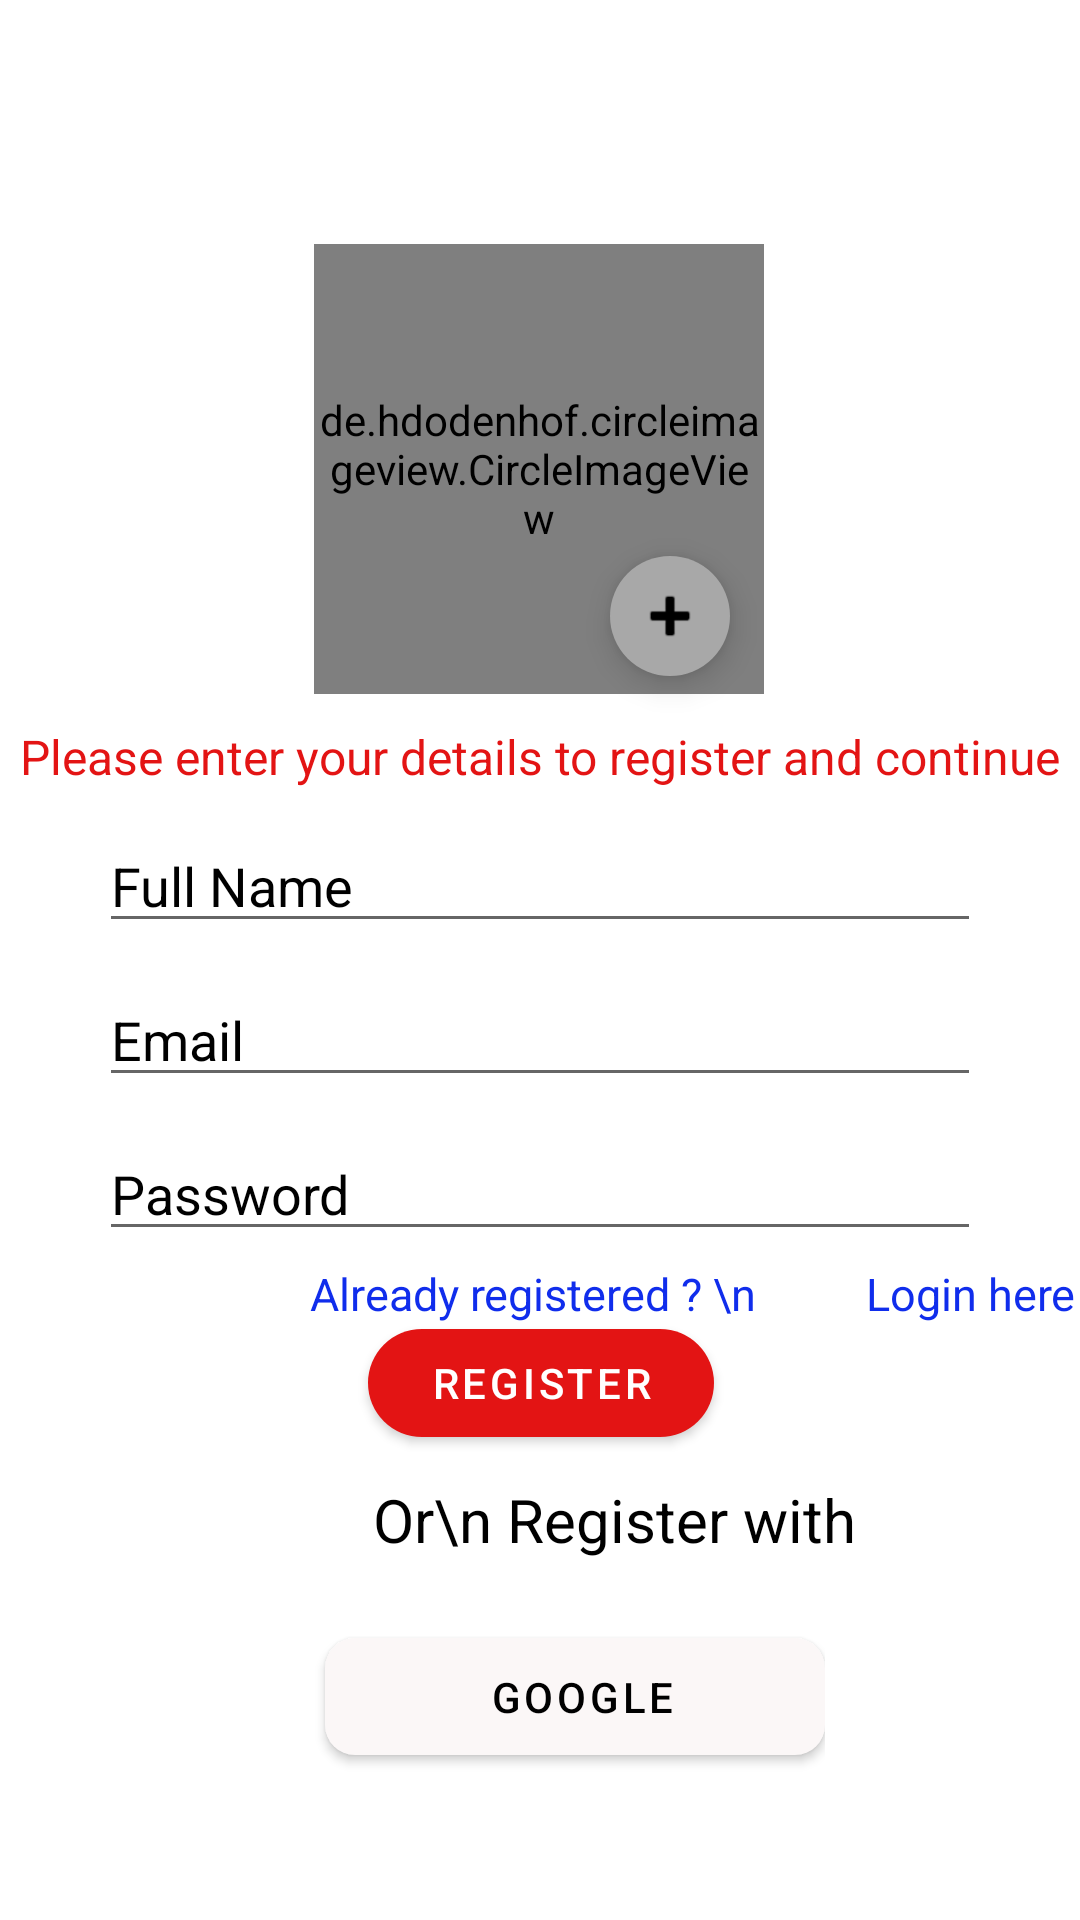

Icon bounding boxes for this 1080 × 1920 phone screenshot, format (x1, y1, x2, y2):
add: (610, 556, 730, 676)
